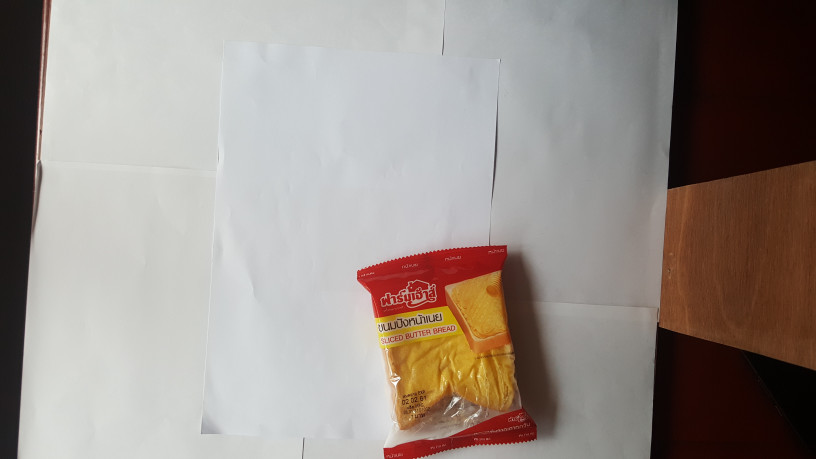farmhouse-bread-butter: (345, 238, 546, 459)
